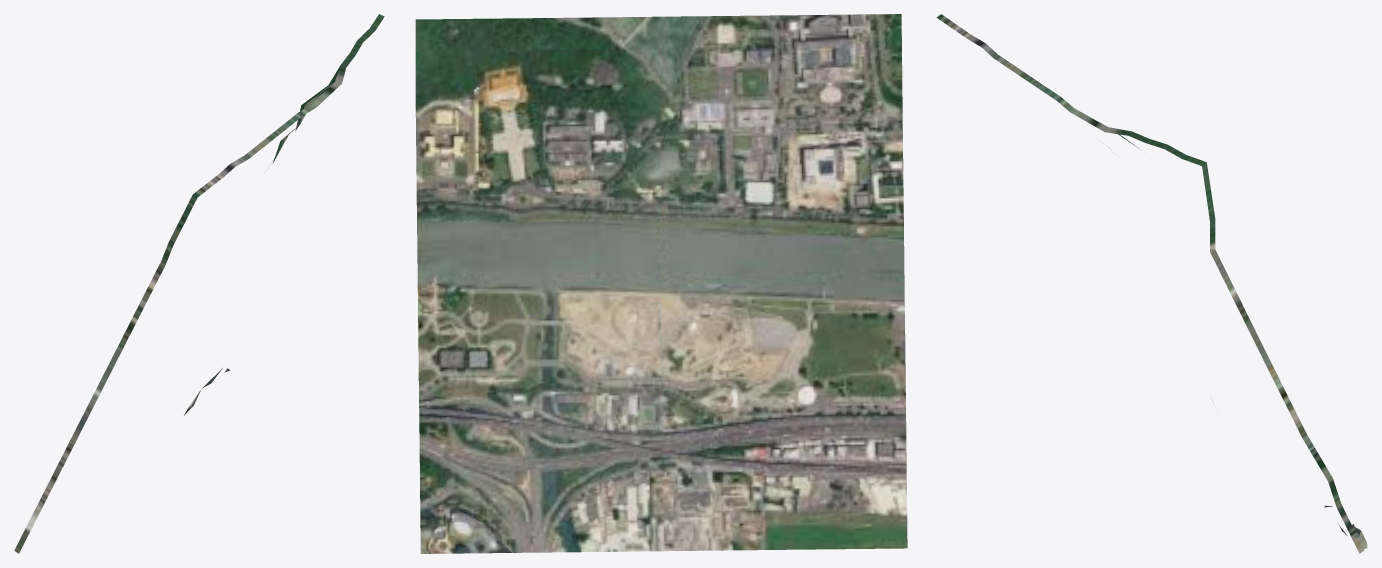
The picture shows the model from 3 angles, left to right: view 1: azimuth 30°, elevation 25°; view 2: azimuth 150°, elevation 25°; view 3: azimuth 270°, elevation 25°; orthographic projection. The views are drawn at different scales.
Size of the model in its own units: 1189 by 1143 by 1035.
1 material, 1 textured.
